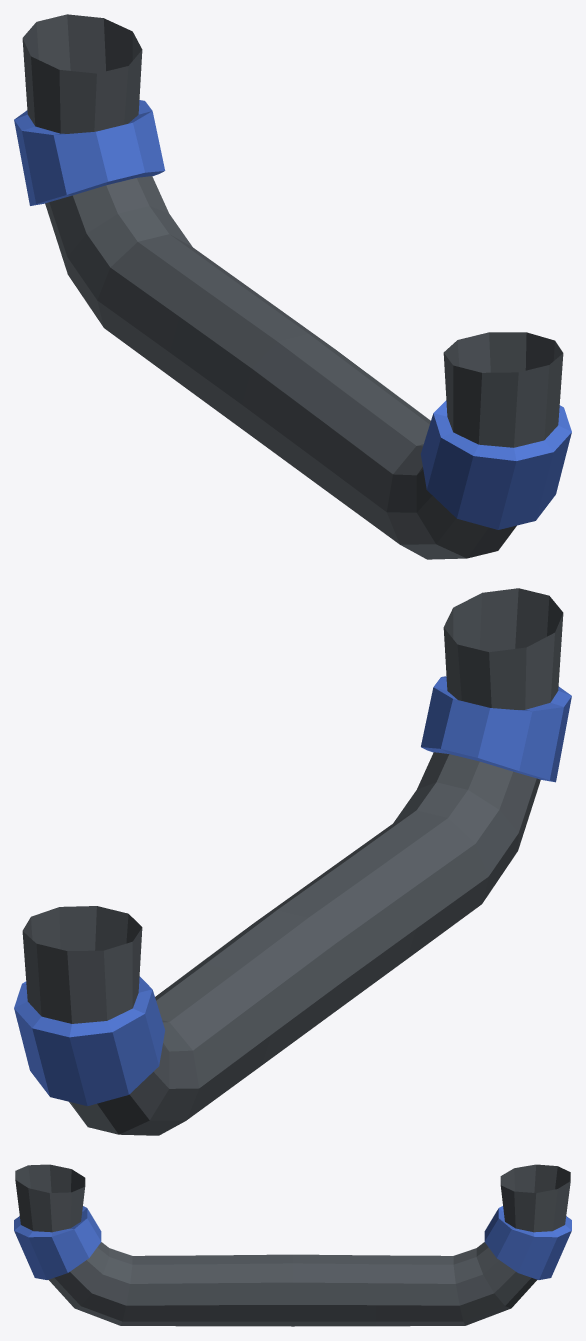
Rendered from Dropship_03_Piping_Small_Blue.fbx.
The picture shows the model from 3 angles, top to bottom: view 1: azimuth 30°, elevation 25°; view 2: azimuth 150°, elevation 25°; view 3: azimuth 270°, elevation 25°; orthographic projection. The views are drawn at different scales.
Parts seen in each view (by area): view 1: Dropship_03_Piping_Small_Blue; view 2: Dropship_03_Piping_Small_Blue; view 3: Dropship_03_Piping_Small_Blue.
Boxes of the visible parts, <box> form: Dropship_03_Piping_Small_Blue: <box>14,14,571,559</box>; Dropship_03_Piping_Small_Blue: <box>14,588,571,1135</box>; Dropship_03_Piping_Small_Blue: <box>14,1164,571,1326</box>.
Bounding box in the file's own units: 18.57 × 36.77 × 127.
Materials: 1 (1 with a texture image).
